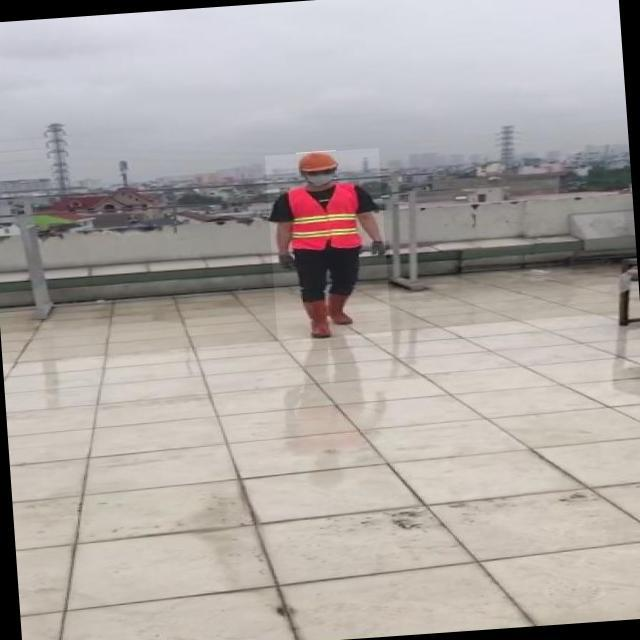Gloves: (367, 240, 390, 260), (275, 253, 294, 273)
Helmet: (296, 150, 337, 173)
Human: (265, 148, 392, 344)
Safety Boot: (299, 297, 332, 338), (323, 287, 354, 327)
Safety Vest: (286, 182, 363, 254)
